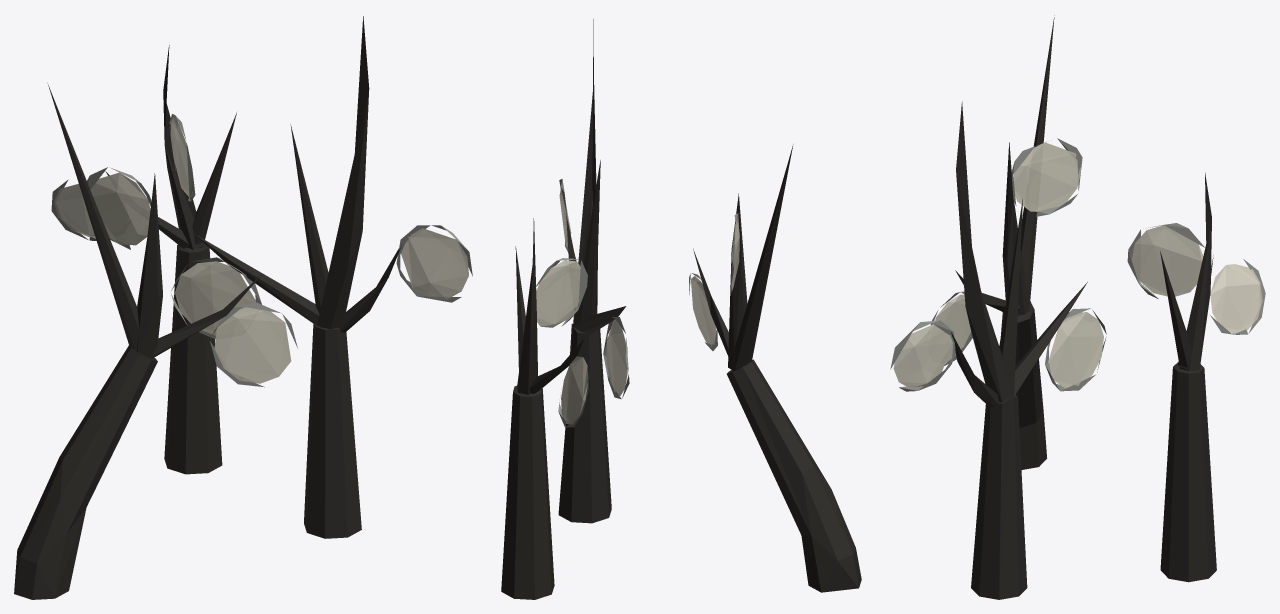
The model's file is lensbomen.lod1.glb.
3 renders of one model, left to right at view 1: azimuth 30°, elevation 25°; view 2: azimuth 150°, elevation 25°; view 3: azimuth 270°, elevation 25°, orthographic. The views are drawn at different scales.
Parts seen in each view (by area): view 1: lensbomen; view 2: lensbomen; view 3: lensbomen.
Part boxes in pixels (bbox=[...]): lensbomen: bbox=[14, 16, 472, 599]; lensbomen: bbox=[501, 19, 861, 599]; lensbomen: bbox=[890, 15, 1265, 599].
Size of the model in its own units: 5.1 by 6.55 by 4.53.
